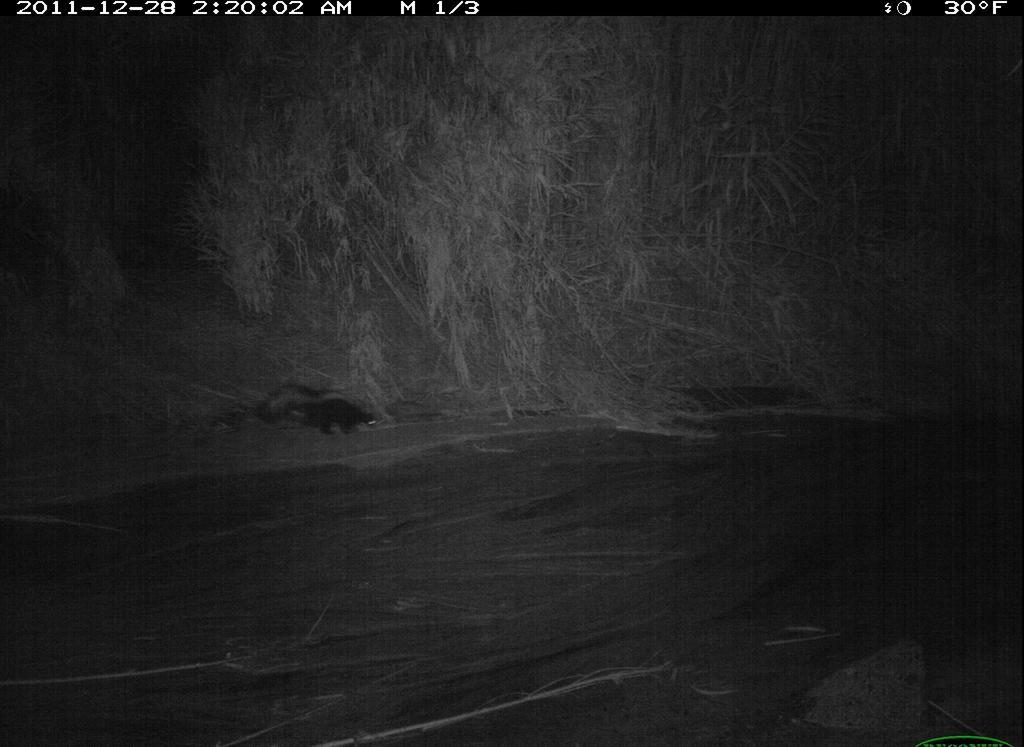skunk: (251, 378, 385, 443)
